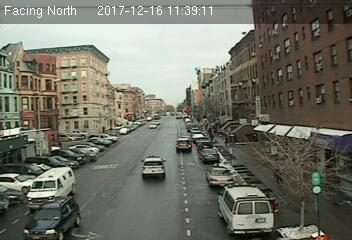car: (24, 200, 79, 239), (206, 165, 235, 187), (200, 147, 219, 162), (176, 138, 194, 152)
police: (219, 183, 273, 233), (139, 153, 169, 181)
truck: (27, 167, 75, 206)
